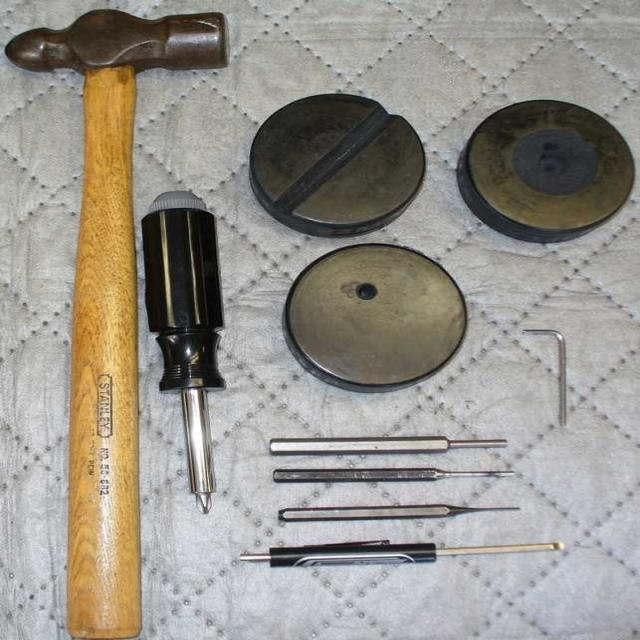hammer: (3, 4, 233, 640)
